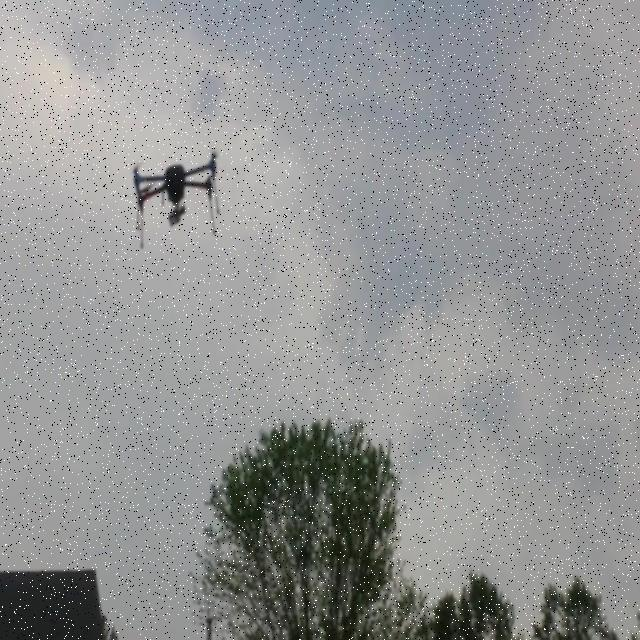UAV: (130, 149, 220, 250)
